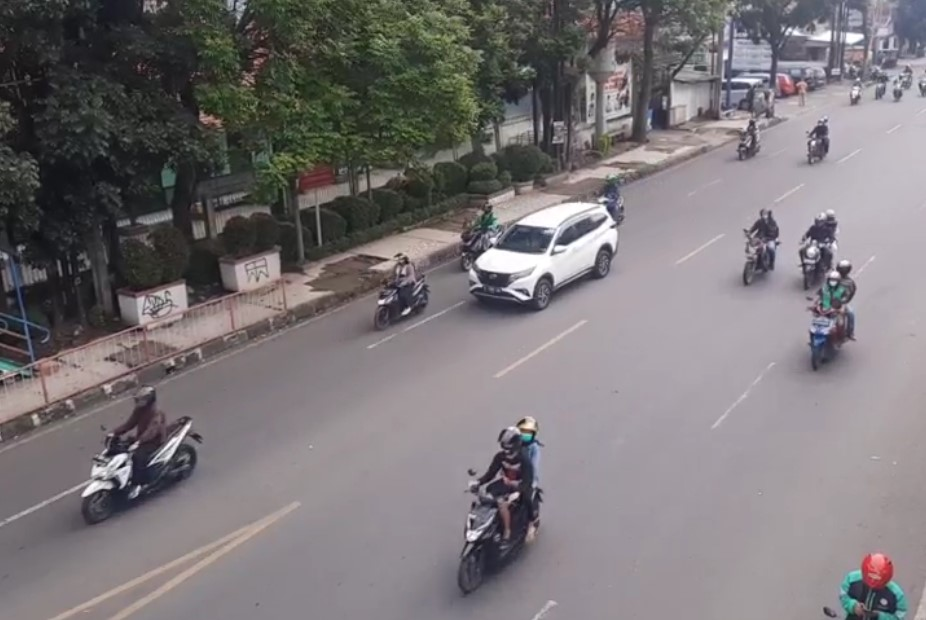motor: (431, 416, 560, 593), (81, 390, 200, 523), (802, 267, 864, 370), (370, 254, 435, 330), (796, 203, 847, 287), (736, 200, 785, 286), (454, 199, 509, 265)
